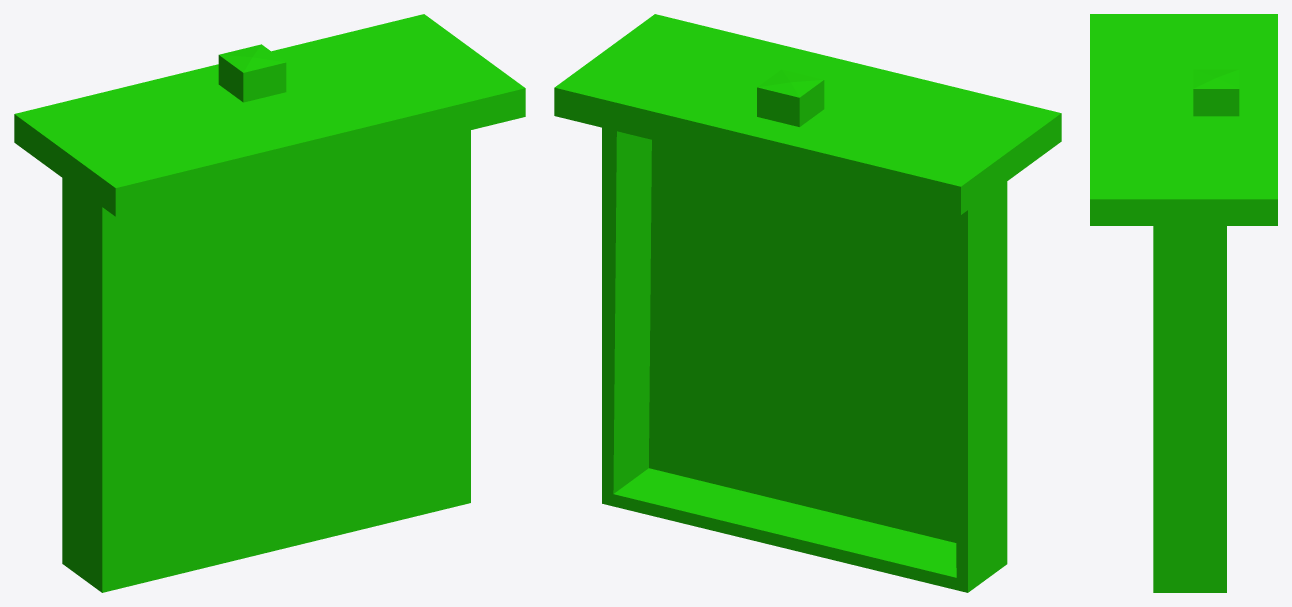
Rendered from SM_Shelf_02_Door_04_Collider.fbx.
3 views of the same model, side by side, from view 1: azimuth 30°, elevation 25°; view 2: azimuth 150°, elevation 25°; view 3: azimuth 270°, elevation 25° (orthographic). The views are drawn at different scales.
Parts seen in each view (by area): view 1: SM_Shelf_02_Door_04_Collider; view 2: SM_Shelf_02_Door_04_Collider; view 3: SM_Shelf_02_Door_04_Collider.
Boxes of the visible parts, left/top/right/bottom form: SM_Shelf_02_Door_04_Collider: left=14, top=14, right=525, bottom=592; SM_Shelf_02_Door_04_Collider: left=554, top=14, right=1061, bottom=592; SM_Shelf_02_Door_04_Collider: left=1090, top=14, right=1277, bottom=592.
Bounding box in the file's own units: 65.66 × 71.29 × 28.13.
